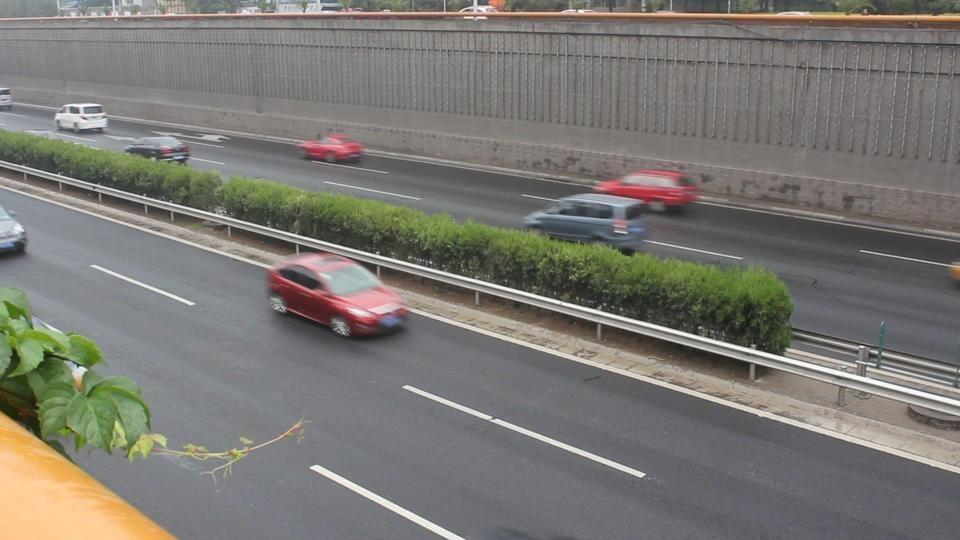car: (265, 250, 412, 338), (522, 193, 650, 256), (592, 167, 703, 213), (296, 133, 365, 164), (123, 135, 192, 165), (54, 102, 109, 133), (0, 205, 28, 254), (0, 87, 14, 111)
